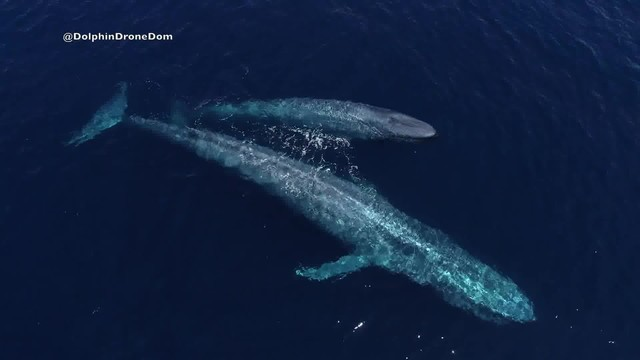whale: (62, 81, 539, 332), (158, 93, 441, 146)
